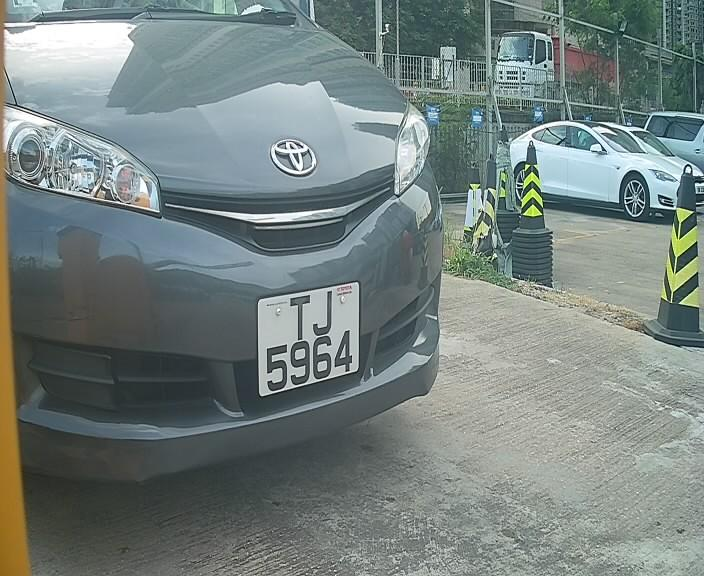License Plate: (246, 276, 368, 402)
